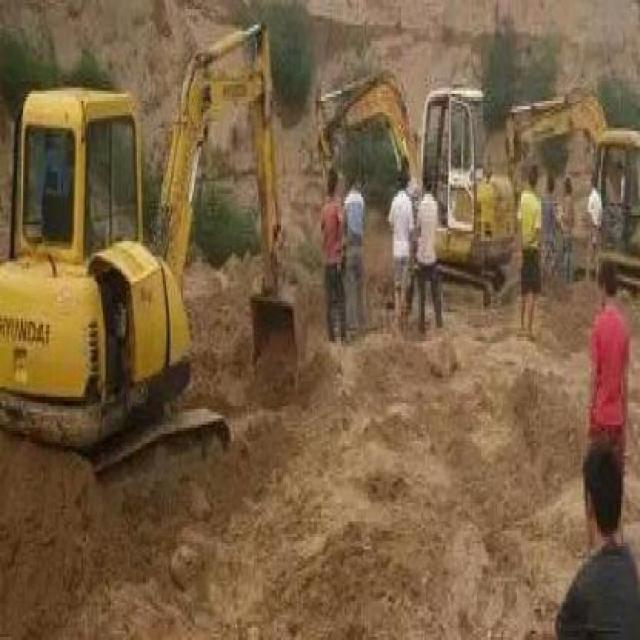Excavator: (0, 12, 303, 476), (308, 62, 520, 313), (504, 88, 638, 300)
